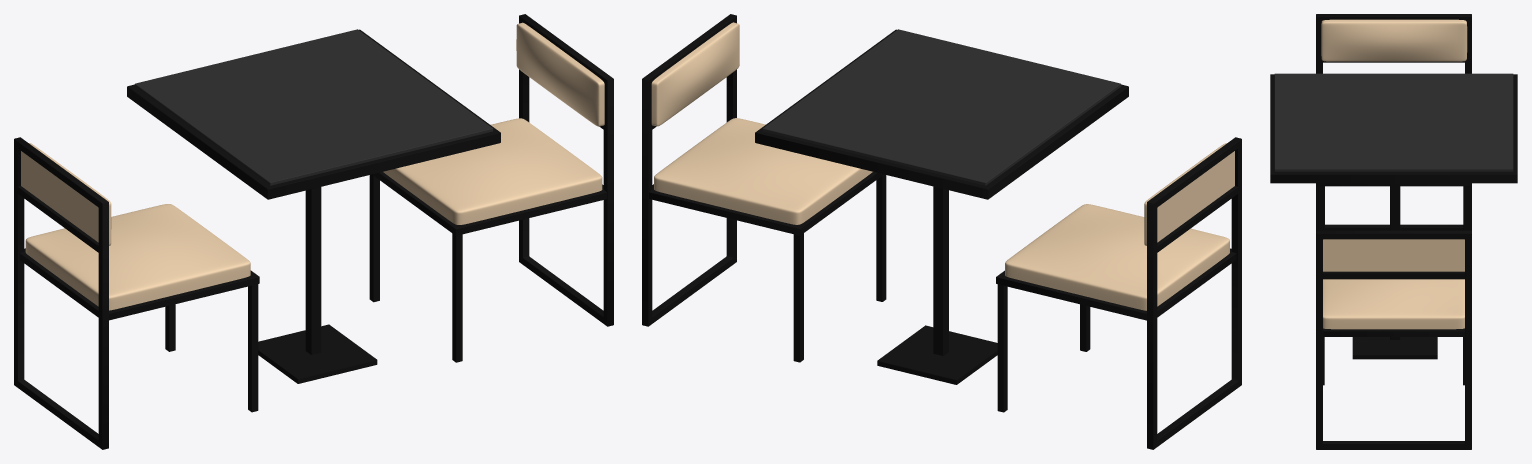
The model's file is Set04.FBX.
3 renders of one model, left to right at view 1: azimuth 30°, elevation 25°; view 2: azimuth 150°, elevation 25°; view 3: azimuth 270°, elevation 25°, orthographic. The views are drawn at different scales.
Parts seen in each view (by area): view 1: Set04 - Table - 001, Set04 - Chair - 001, Set04 - Chair - 002; view 2: Set04 - Table - 001, Set04 - Chair - 001, Set04 - Chair - 002; view 3: Set04 - Table - 001, Set04 - Chair - 002, Set04 - Chair - 001.
Part boxes in pixels (x1,y1,x2,y2): Set04 - Table - 001: (127, 29, 500, 383); Set04 - Chair - 001: (14, 137, 259, 449); Set04 - Chair - 002: (369, 14, 613, 362); Set04 - Table - 001: (755, 29, 1128, 384); Set04 - Chair - 001: (996, 137, 1241, 449); Set04 - Chair - 002: (642, 14, 886, 362); Set04 - Table - 001: (1270, 73, 1517, 359); Set04 - Chair - 002: (1316, 230, 1471, 449); Set04 - Chair - 001: (1316, 14, 1471, 230).
Size of the model in its own units: 59.04 by 27.71 by 28.15.
